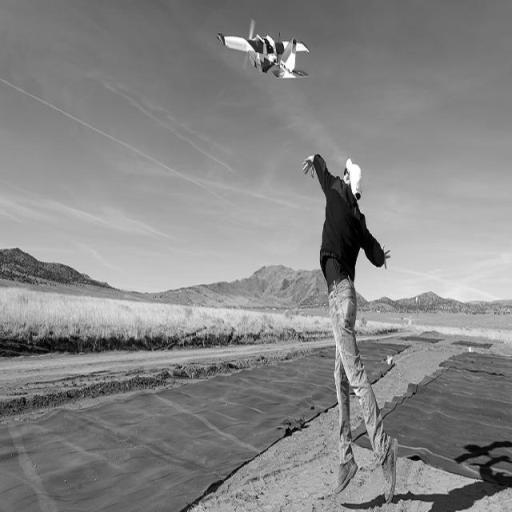uav: (212, 10, 310, 105)
